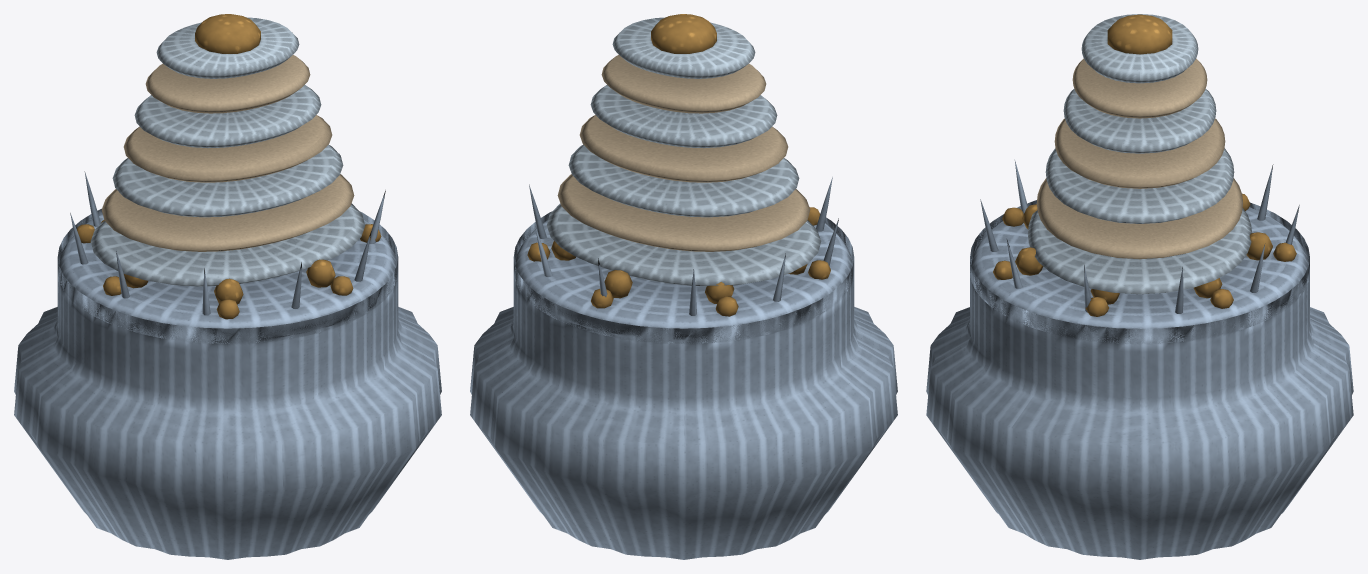
Rendered from landmark_b1_coccolith_stack.glb.
3 renders of one model, left to right at view 1: azimuth 30°, elevation 25°; view 2: azimuth 150°, elevation 25°; view 3: azimuth 270°, elevation 25°, orthographic.
Parts seen in each view (by area): view 1: LandmarkB1CoccolithStack, Growth_Beads, Growth_Needles; view 2: LandmarkB1CoccolithStack, Growth_Beads, Growth_Needles; view 3: LandmarkB1CoccolithStack, Growth_Beads, Growth_Needles.
Boxes of the visible parts, x1,y1,x2,y2 form: LandmarkB1CoccolithStack: [14, 14, 441, 559]; Growth_Beads: [77, 220, 381, 319]; Growth_Needles: [70, 153, 385, 315]; LandmarkB1CoccolithStack: [470, 14, 897, 559]; Growth_Beads: [527, 207, 830, 316]; Growth_Needles: [529, 177, 838, 315]; LandmarkB1CoccolithStack: [926, 14, 1353, 559]; Growth_Beads: [993, 193, 1296, 316]; Growth_Needles: [980, 159, 1299, 313].
Size of the model in its own units: 5.1 by 6.39 by 5.03.
4 materials, 4 textured.
